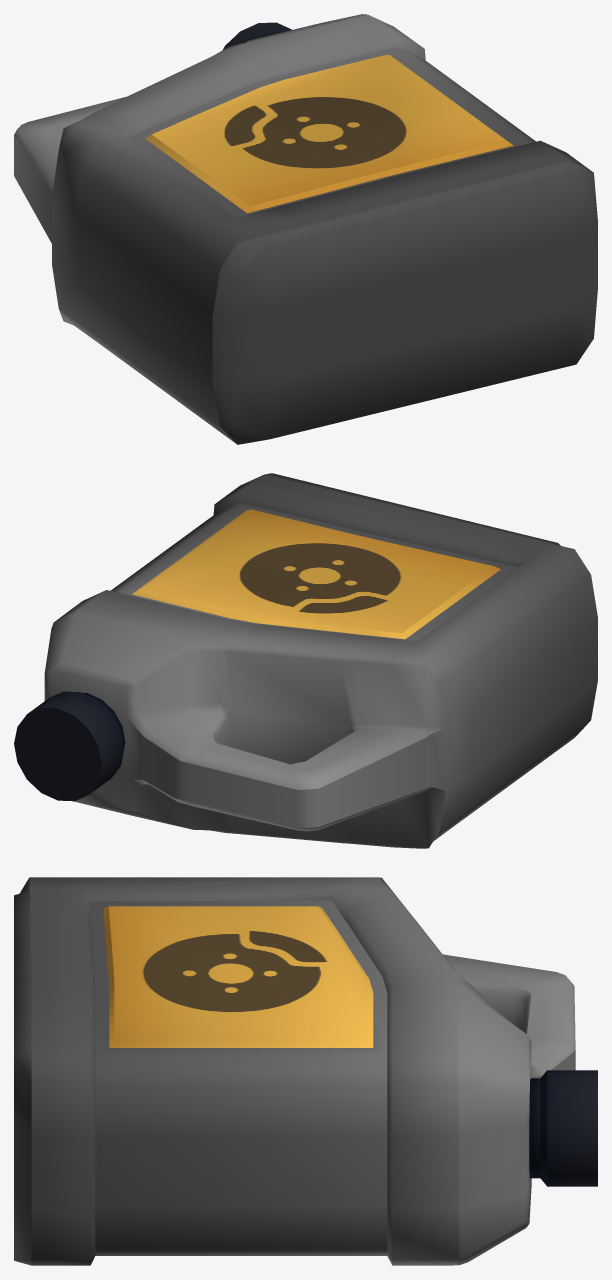
Rendered from Medium Jug.fbx.
3 views of the same model, one above another, from view 1: azimuth 30°, elevation 25°; view 2: azimuth 150°, elevation 25°; view 3: azimuth 270°, elevation 25° (orthographic). The views are drawn at different scales.
Visible parts, largest first — view 1: Medium jug; view 2: Medium jug; view 3: Medium jug.
Part boxes in pixels (bbox=[...]): Medium jug: bbox=[14, 14, 597, 444]; Medium jug: bbox=[14, 473, 597, 848]; Medium jug: bbox=[14, 877, 597, 1265].
Size of the model in its own units: 161 by 80.63 by 198.
Materials: 1 (1 with a texture image).
